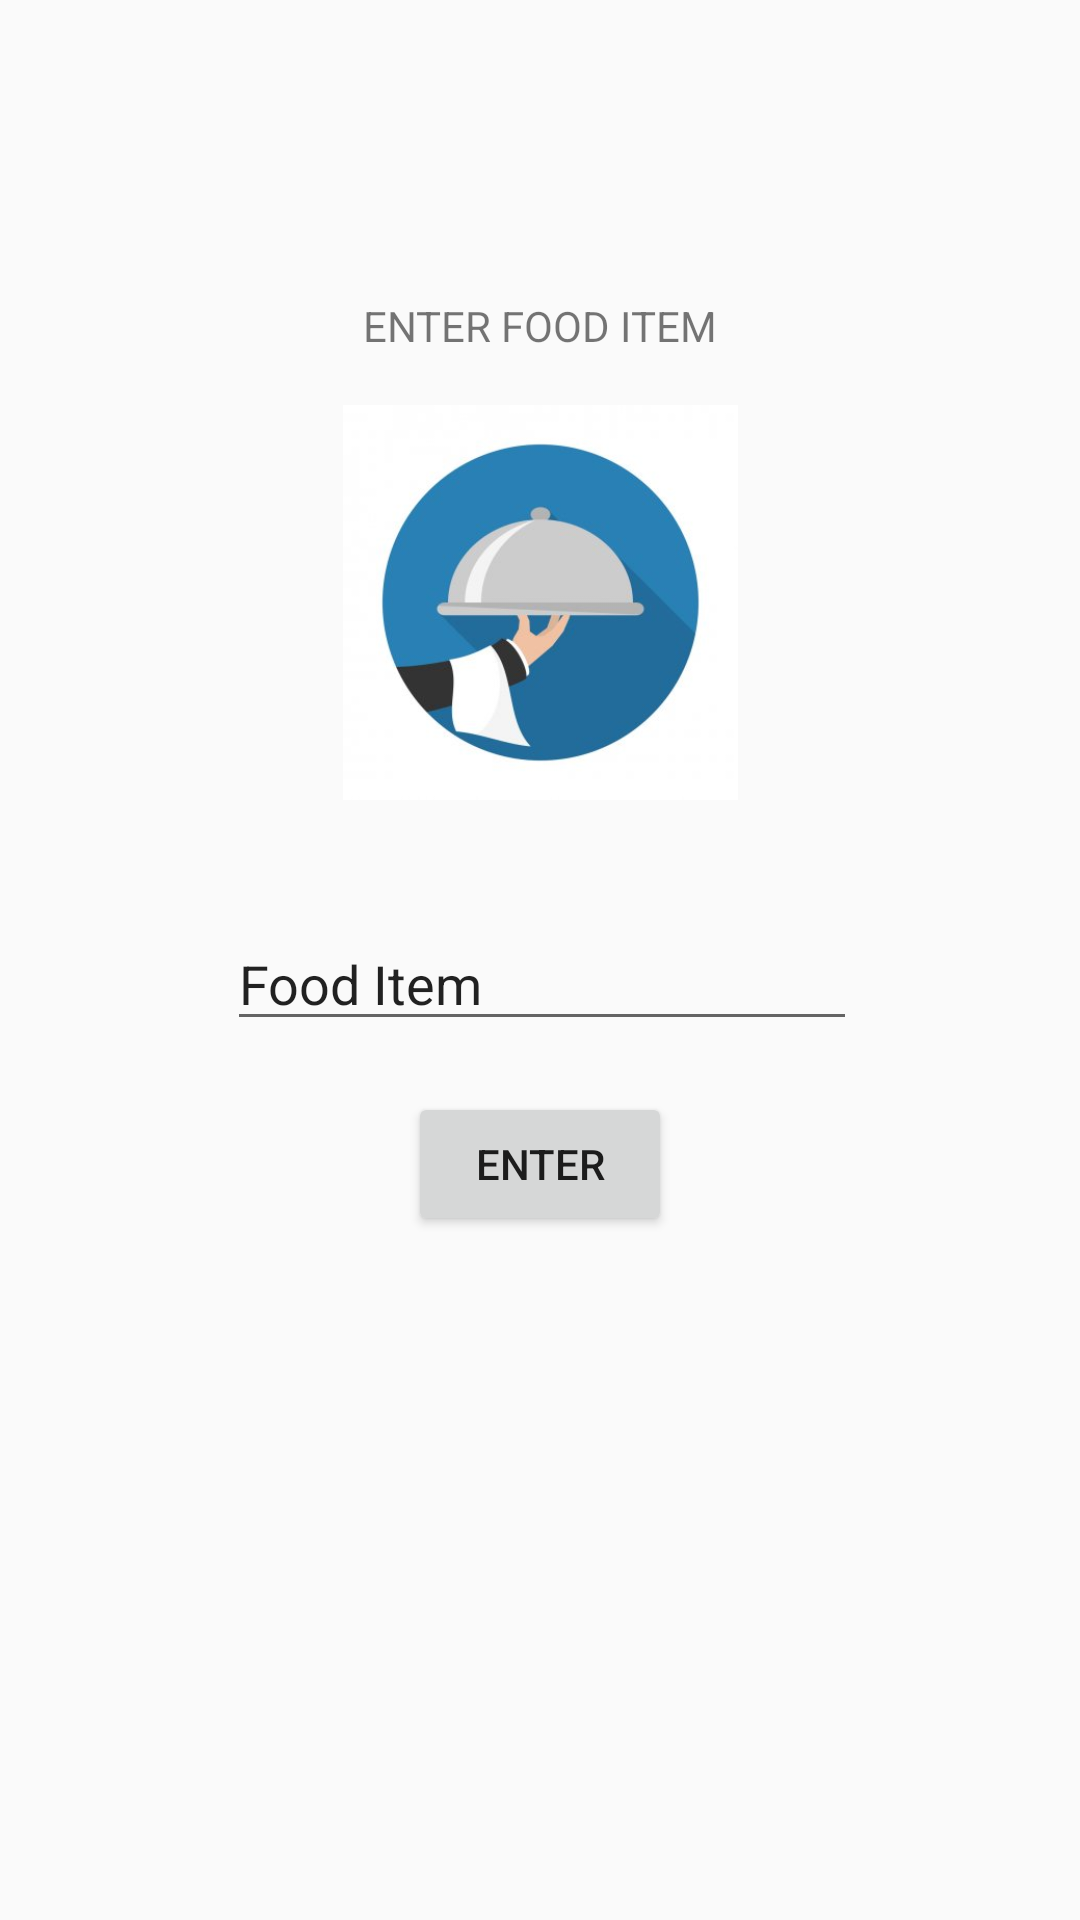

Icon bounding boxes for this 1080*1920 phone screenshot, format bbox(x1, y1, x2, y2):
foodtray: bbox(382, 444, 699, 761)
